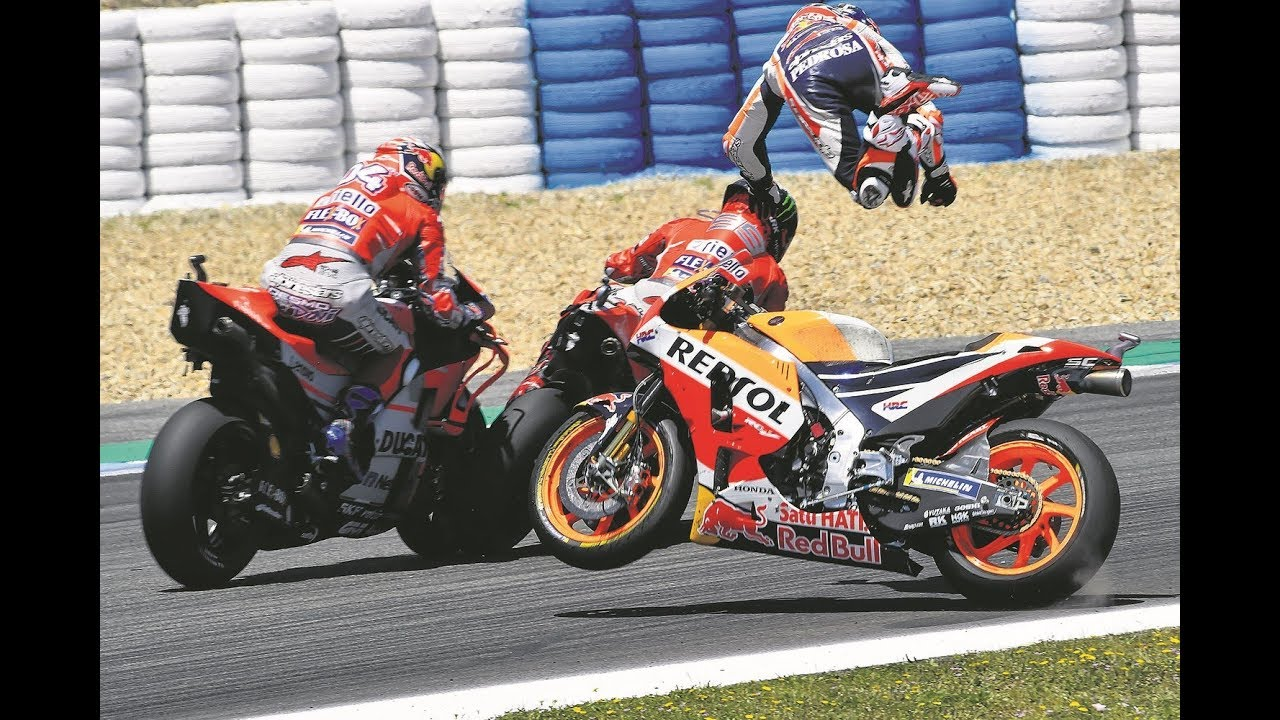helmet: (368, 124, 448, 193)
